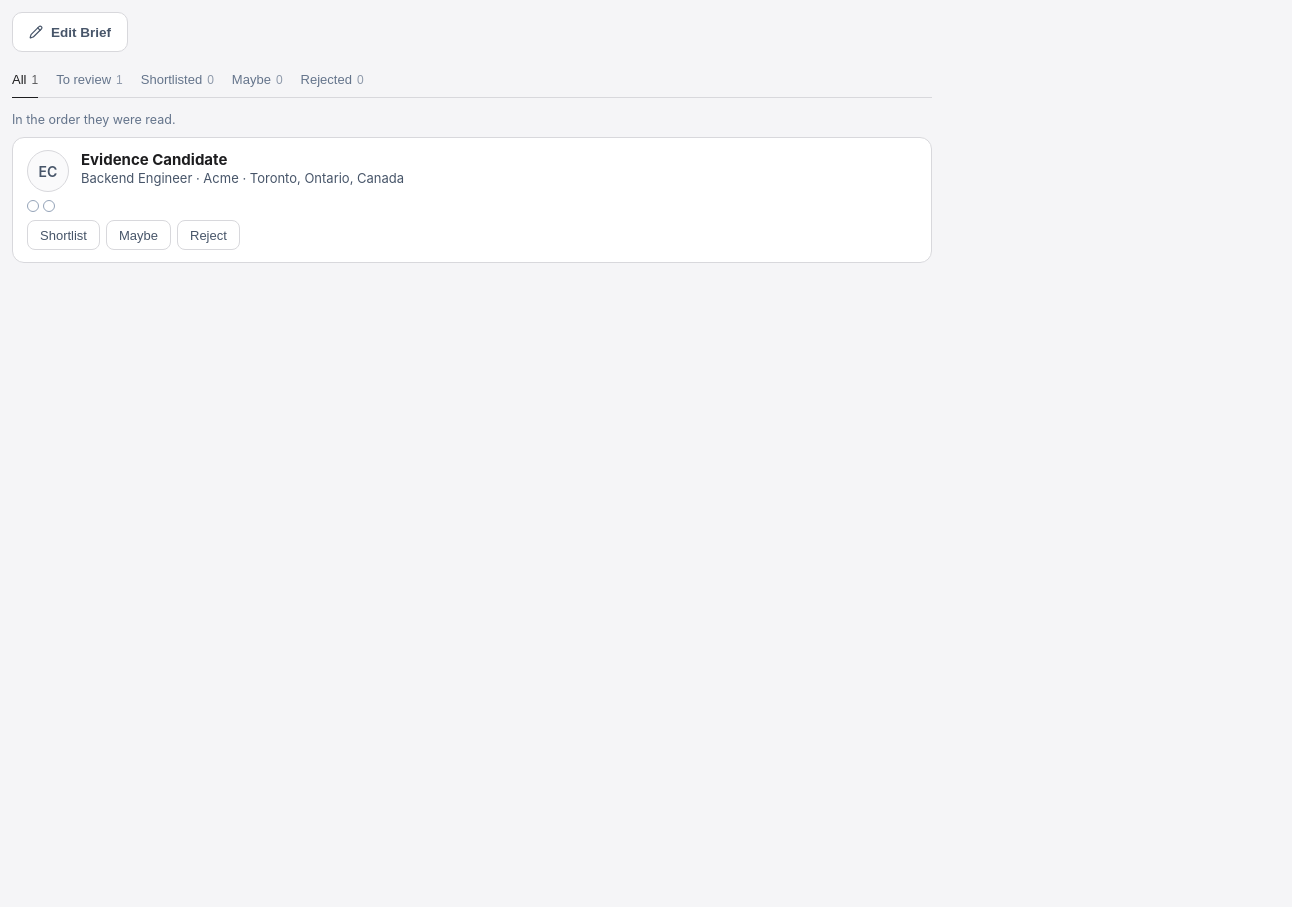
Scenario: evidence state: met / not_evidenced / unknown › 3. unknown renders distinctly from not_evidenced
Step 1. Click the element with class "ws-card" → (472, 200), box [12,137,932,263]
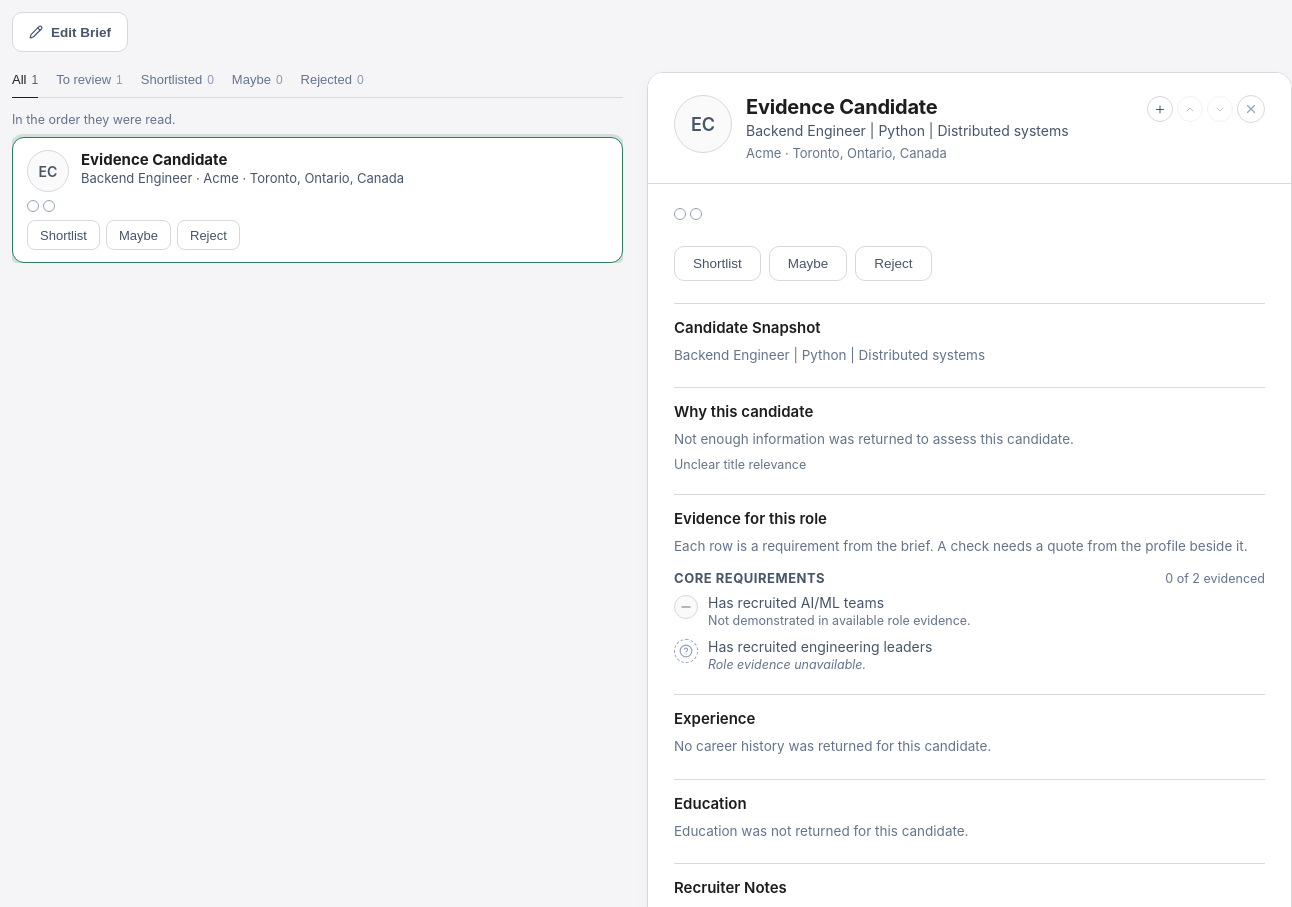
Expected: the element with class "record-ledger__row--missing" does not show "Not demonstrated in available role evidence."
Expected: the list item with class "record-ledger__row--missing" shows "Role evidence unavailable.", [708,657,866,672]
